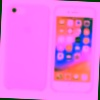iphone: (5, 5, 48, 91), (53, 5, 95, 92)
